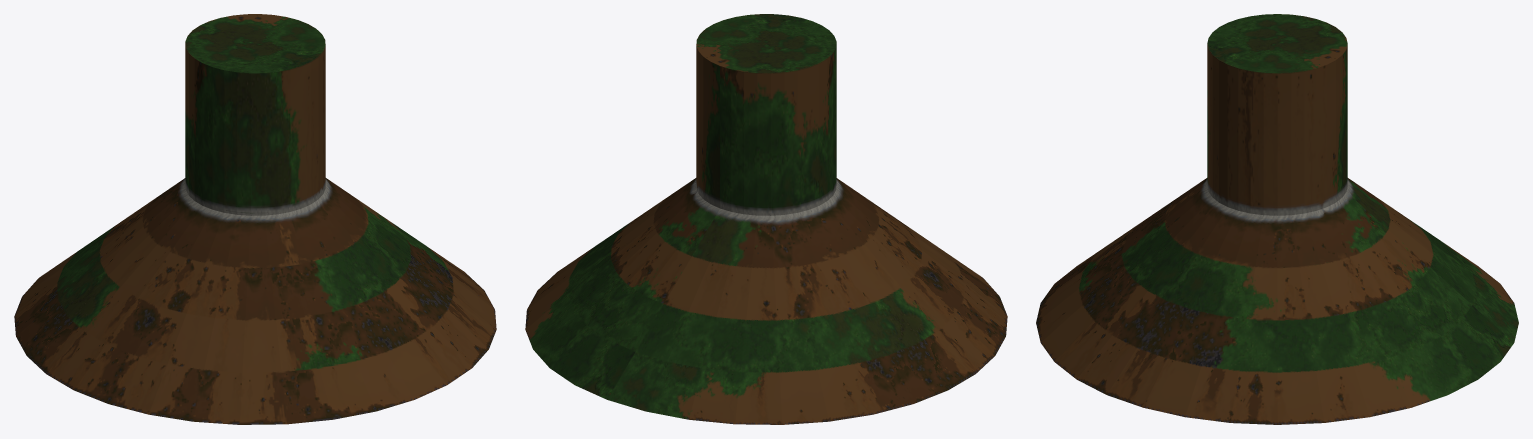
Rendered from Submarine_Lamp.fbx.
The picture shows the model from 3 angles, left to right: view 1: azimuth 30°, elevation 25°; view 2: azimuth 150°, elevation 25°; view 3: azimuth 270°, elevation 25°; orthographic projection.
Visible parts, largest first — view 1: Lamp; view 2: Lamp; view 3: Lamp.
Boxes of the visible parts, x1,y1,x2,y2 form: Lamp: (14,14,496,424); Lamp: (525,14,1007,424); Lamp: (1036,14,1518,424).
Size of the model in its own units: 42.64 by 33.29 by 42.64.
